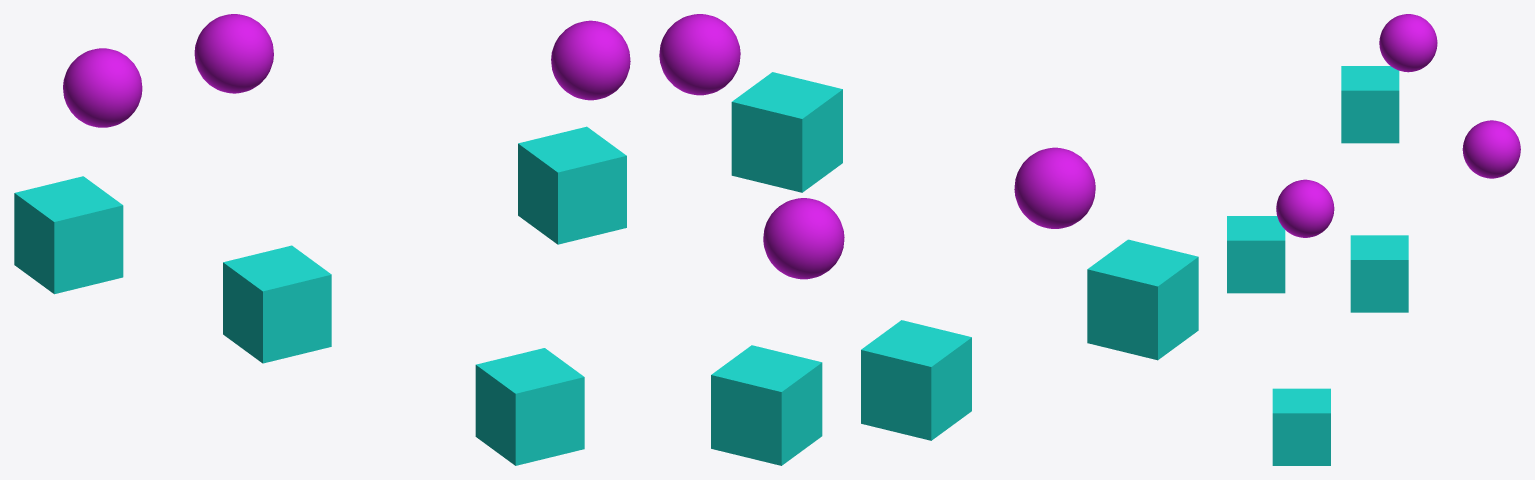
Rendered from Cubos.glb.
3 views of the same model, side by side, from view 1: azimuth 30°, elevation 25°; view 2: azimuth 150°, elevation 25°; view 3: azimuth 270°, elevation 25° (orthographic). The views are drawn at different scales.
Parts seen in each view (by area): view 1: Cube.001, Cube.003, Cube.002, Cube, Esfera.002, Esfera, Esfera.001; view 2: Cube.001, Cube.003, Cube, Cube.002, Esfera.001, Esfera, Esfera.002; view 3: Cube.002, Cube.003, Cube.001, Cube, Esfera.002, Esfera, Esfera.001.
Boxes of the visible parts, x1,y1,x2,y2 form: Cube.001: (14, 176, 123, 294); Cube.003: (475, 348, 584, 465); Cube.002: (223, 245, 331, 363); Cube: (518, 126, 626, 244); Esfera.002: (194, 14, 273, 93); Esfera: (551, 20, 630, 100); Esfera.001: (63, 48, 142, 127); Cube.001: (1087, 239, 1198, 360); Cube.003: (711, 345, 822, 465); Cube: (731, 72, 842, 192); Cube.002: (861, 320, 971, 440); Esfera.001: (1014, 147, 1095, 228); Esfera: (659, 14, 740, 95); Esfera.002: (763, 198, 844, 279); Cube.002: (1350, 235, 1408, 312); Cube.003: (1272, 388, 1330, 465); Cube.001: (1341, 66, 1399, 143); Cube: (1227, 216, 1285, 293); Esfera.002: (1462, 120, 1520, 178); Esfera: (1276, 179, 1334, 237); Esfera.001: (1379, 14, 1437, 72).
Size of the model in its own units: 15.85 by 11.76 by 10.09.
